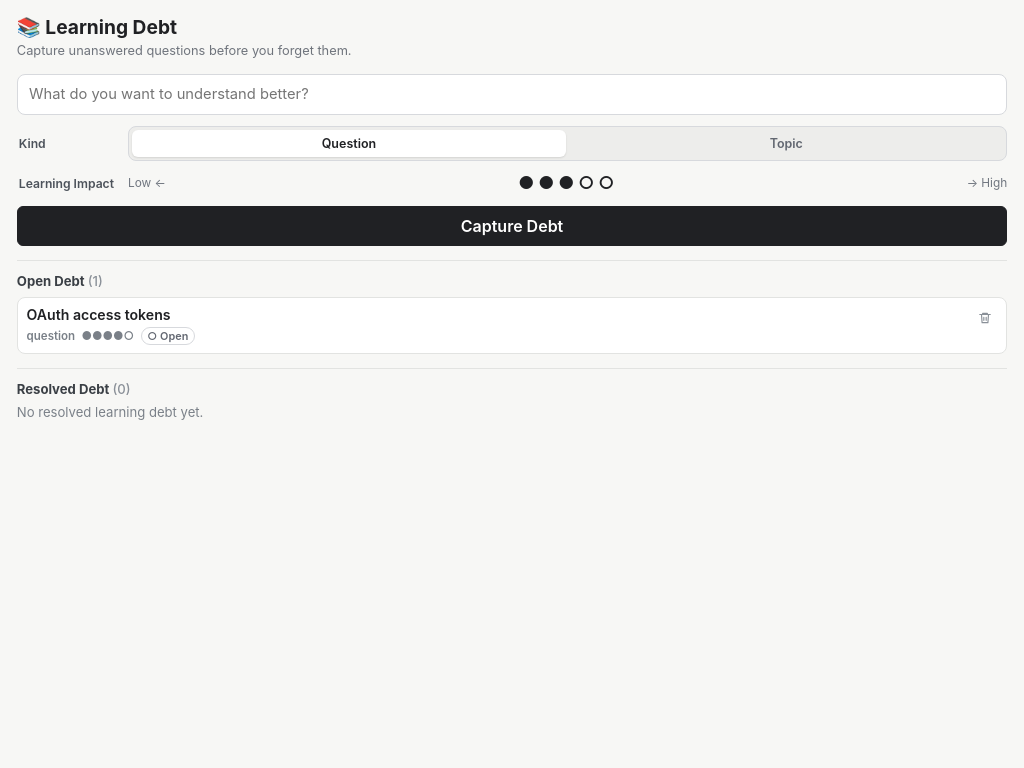
it: App › requires a non-empty lesson before resolving an item
expect the text "OAuth access tokens" is shown: met, box x1=27 y1=306 x2=170 y2=323
Step 1. Click the button "OAuth access tokens question ●●●●○ ○ Open" → (99, 314), box x1=27 y1=306 x2=966 y2=345
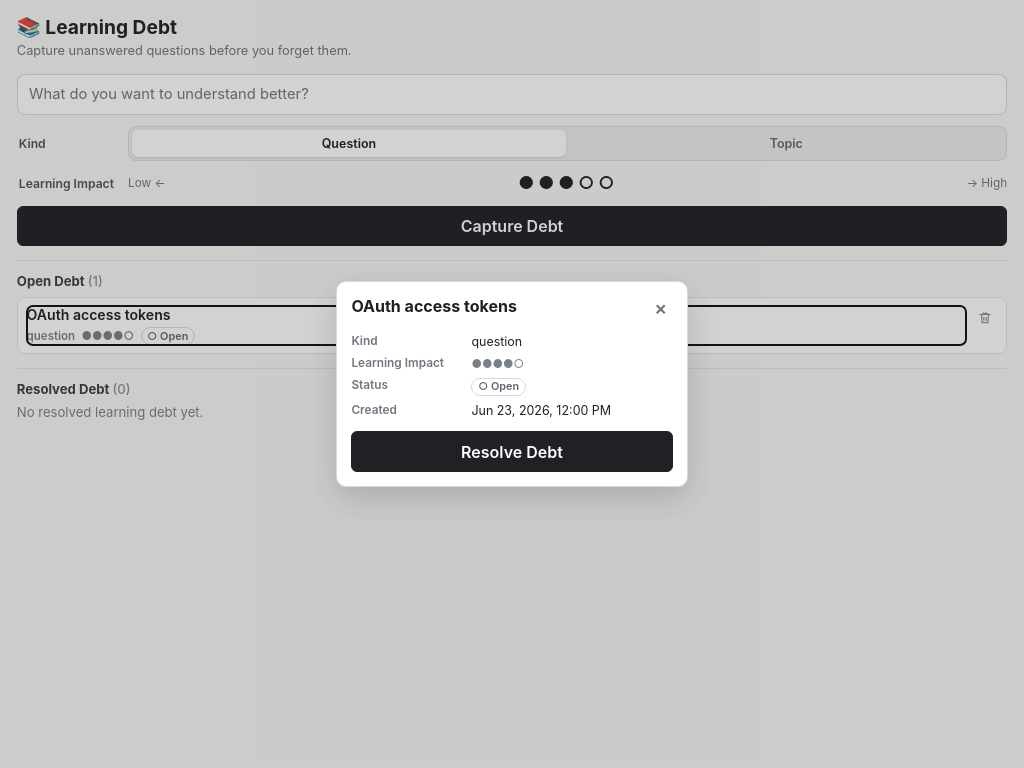
Step 2. Click the button "Resolve Debt" → (512, 452), box x1=351 y1=431 x2=673 y2=472
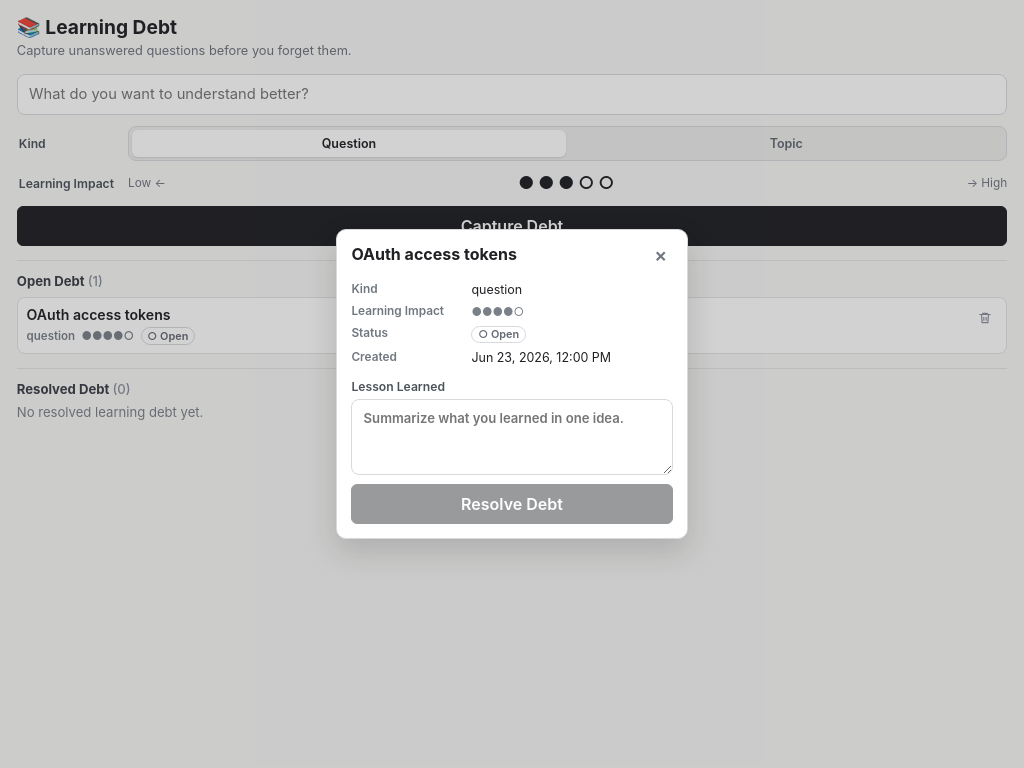
expect the button "Resolve Debt" is disabled: met, box x1=351 y1=484 x2=673 y2=524
Step 3. Type "Access tokens represent authorization, not identity." into the text box with placeholder "Summarize what you learned in one idea." → (512, 437), box x1=351 y1=399 x2=673 y2=475
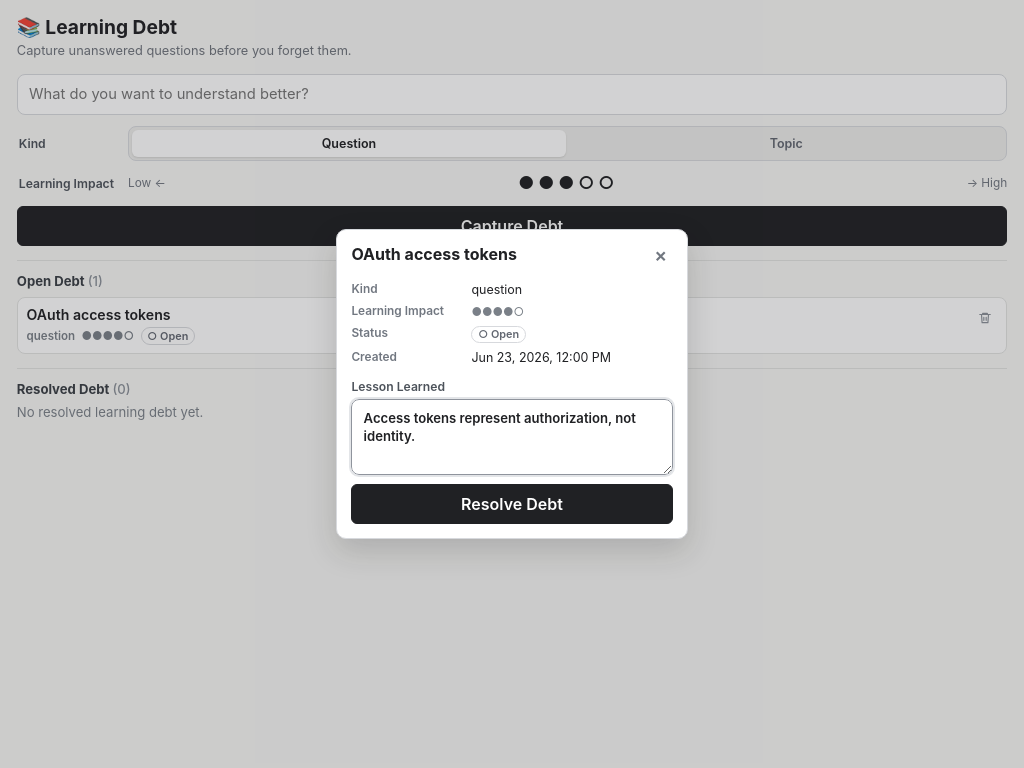
expect the button "Resolve Debt" is enabled: met, box x1=351 y1=484 x2=673 y2=524
